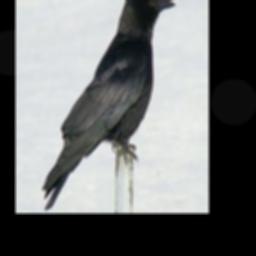Crow: (42, 0, 177, 211)
